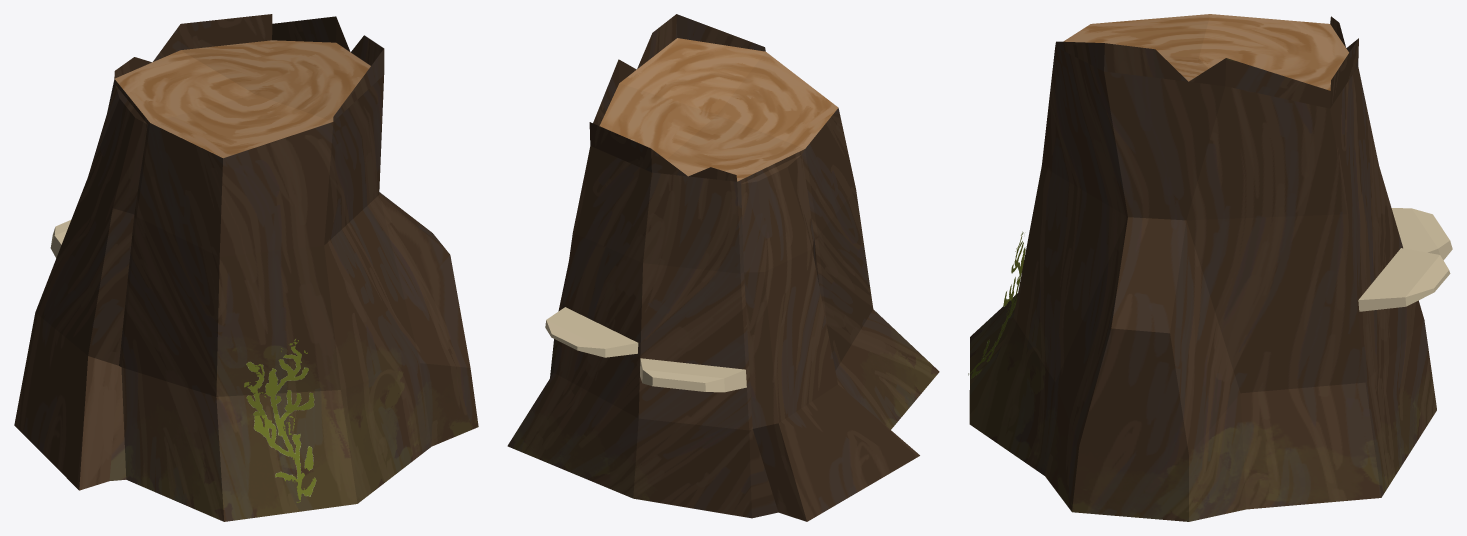
The model's file is 3D_Tree_Stump.fbx.
The picture shows the model from 3 angles, left to right: view 1: azimuth 30°, elevation 25°; view 2: azimuth 150°, elevation 25°; view 3: azimuth 270°, elevation 25°; orthographic projection. The views are drawn at different scales.
Visible parts, largest first — view 1: Cube; view 2: Cube; view 3: Cube.
Boxes of the visible parts, bbox=[...] form: Cube: bbox=[14, 14, 478, 521]; Cube: bbox=[507, 14, 939, 521]; Cube: bbox=[968, 14, 1452, 521].
Size of the model in its own units: 0.4 by 0.4 by 0.4.
